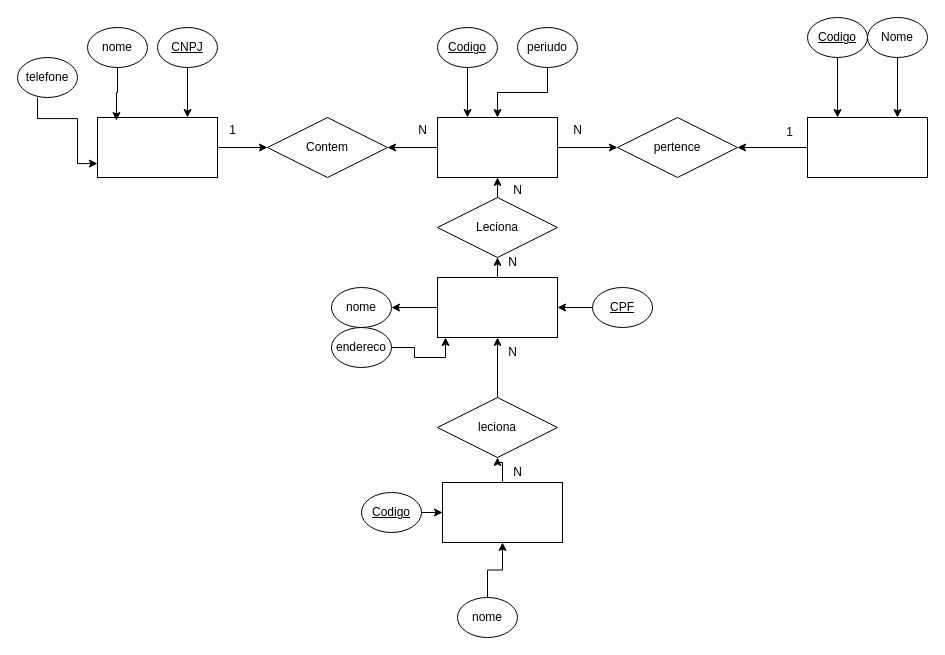
Some shapes in this 945 by 655 pixel diagram are drawn without their labels. The shapes that lost their labels are listed below. From the top down, each one's centre as x and y in pixels, then its label:
At pixel 157 147: "Escola".
At pixel 497 147: "Turma".
At pixel 867 147: "sala".
At pixel 497 307: "professor".
At pixel 502 512: "aula".
